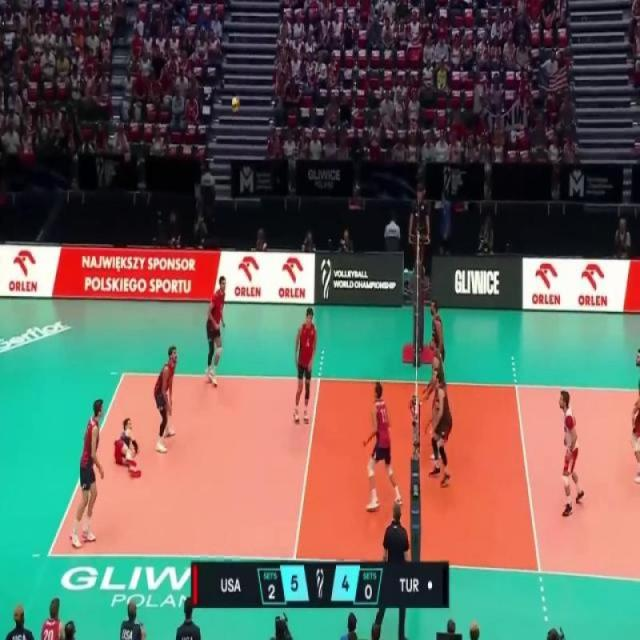volleyball: (230, 93, 241, 114)
